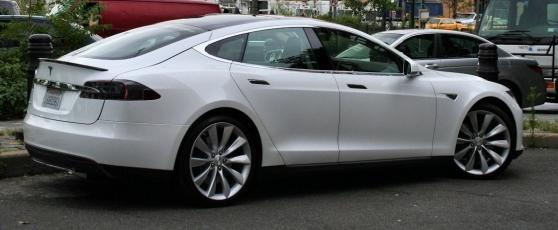back_view: (23, 58, 157, 182)
backlight: (79, 76, 166, 106)
side_glass: (221, 23, 410, 69)
